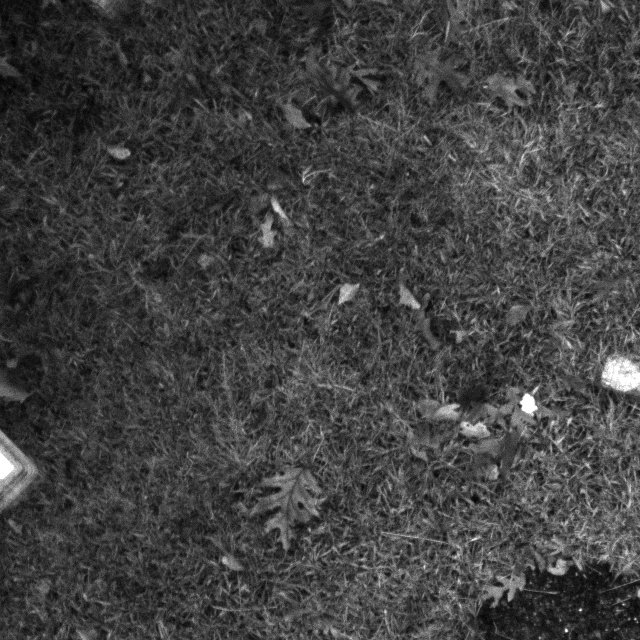bottle: (587, 338, 640, 437)
